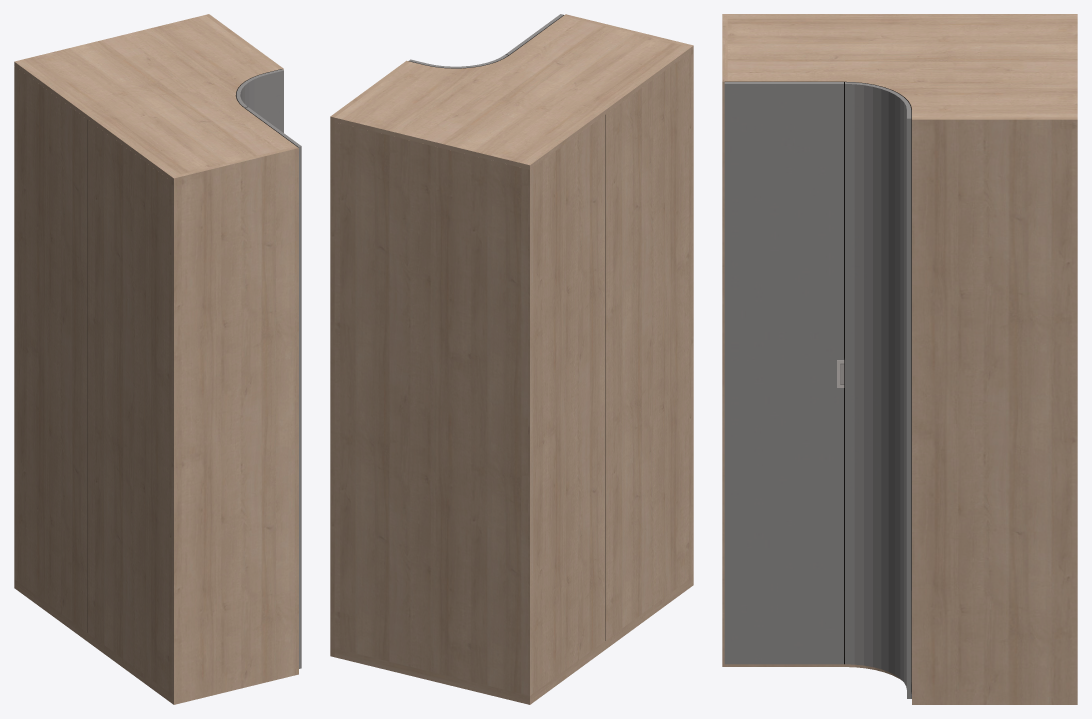
3 views of the same model, side by side, from view 1: azimuth 30°, elevation 25°; view 2: azimuth 150°, elevation 25°; view 3: azimuth 270°, elevation 25° (orthographic). The views are drawn at different scales.
Visible parts, largest first — view 1: Mesh41_Agrupar_39_Model086, Mesh41_Agrupar_39_Model000, Mesh41_Agrupar_39_Model083, Mesh41_Agrupar_39_Model081, Mesh41_Agrupar_39_Model082; view 2: Mesh41_Agrupar_39_Model086, Mesh41_Agrupar_39_Model000; view 3: Mesh41_Agrupar_39_Model000, Mesh41_Agrupar_39_Model081, Mesh41_Agrupar_39_Model083, Mesh41_Agrupar_39_Model086, Mesh41_Agrupar_39_Model085.
Boxes of the visible parts, <box> form: Mesh41_Agrupar_39_Model086: <box>14,15,295,698</box>; Mesh41_Agrupar_39_Model000: <box>14,14,298,704</box>; Mesh41_Agrupar_39_Model083: <box>236,69,283,132</box>; Mesh41_Agrupar_39_Model081: <box>245,107,301,668</box>; Mesh41_Agrupar_39_Model082: <box>87,120,87,632</box>; Mesh41_Agrupar_39_Model086: <box>334,16,691,700</box>; Mesh41_Agrupar_39_Model000: <box>330,14,693,704</box>; Mesh41_Agrupar_39_Model000: <box>722,14,1077,704</box>; Mesh41_Agrupar_39_Model081: <box>724,82,843,664</box>; Mesh41_Agrupar_39_Model083: <box>845,82,911,698</box>; Mesh41_Agrupar_39_Model086: <box>727,14,1077,686</box>; Mesh41_Agrupar_39_Model085: <box>725,81,911,698</box>.
Bounding box in the file's own units: 1.86 × 4.8 × 2.64.
Materials: 10 (5 with a texture image).
